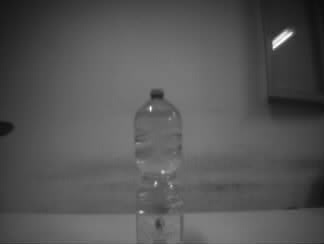Bottle: (133, 89, 184, 244)
